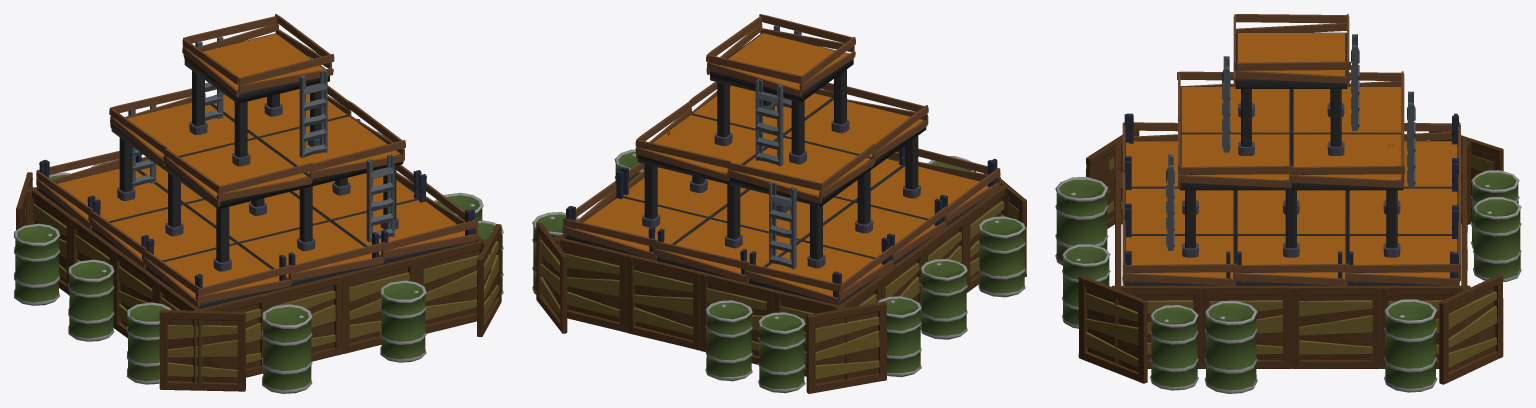
Rendered from SmallBunkerSeperatedParts 1.fbx.
3 views of the same model, side by side, from view 1: azimuth 30°, elevation 25°; view 2: azimuth 150°, elevation 25°; view 3: azimuth 270°, elevation 25° (orthographic). The views are drawn at different scales.
Parts seen in each view (by area): view 1: SmallBunker.015, SmallBunker.308, SmallBunker.013, SmallBunker.014, SmallBunker.011, SmallBunker.310, SmallBunker.304, SmallBunker.301, SmallBunker.009, SmallBunker.005, SmallBunker.010, SmallBunker.006 (+83 smaller); view 2: SmallBunker.015, SmallBunker.013, SmallBunker.012, SmallBunker.305, SmallBunker.298, SmallBunker.300, SmallBunker.304, SmallBunker.014, SmallBunker.008, SmallBunker.009, SmallBunker.004, SmallBunker.007 (+83 smaller); view 3: SmallBunker.015, SmallBunker.006, SmallBunker.294, SmallBunker.295, SmallBunker.007, SmallBunker.012, SmallBunker.011, SmallBunker.014, SmallBunker.013, SmallBunker.005, SmallBunker.292, SmallBunker.300 (+71 smaller).
Part boxes in pixels (<box>): SmallBunker.015: <box>184,33,329,103</box>; SmallBunker.308: <box>262,304,312,393</box>; SmallBunker.013: <box>165,138,310,208</box>; SmallBunker.014: <box>111,102,256,169</box>; SmallBunker.011: <box>258,116,403,186</box>; SmallBunker.310: <box>380,280,426,362</box>; SmallBunker.304: <box>68,259,114,341</box>; SmallBunker.301: <box>14,223,60,305</box>; SmallBunker.009: <box>92,204,236,261</box>; SmallBunker.005: <box>238,221,383,286</box>; SmallBunker.010: <box>38,168,183,222</box>; SmallBunker.006: <box>185,192,329,243</box>; SmallBunker.015: <box>710,32,853,102</box>; SmallBunker.013: <box>783,99,926,167</box>; SmallBunker.012: <box>637,114,776,184</box>; SmallBunker.305: <box>978,216,1025,297</box>; SmallBunker.298: <box>758,312,805,393</box>; SmallBunker.300: <box>705,300,752,381</box>; SmallBunker.304: <box>920,258,967,339</box>; SmallBunker.014: <box>729,137,873,206</box>; SmallBunker.008: <box>855,165,988,226</box>; SmallBunker.009: <box>802,202,936,265</box>; SmallBunker.004: <box>566,197,708,260</box>; SmallBunker.007: <box>657,218,800,283</box>; SmallBunker.015: <box>1235,32,1347,88</box>; SmallBunker.006: <box>1235,190,1347,235</box>; SmallBunker.294: <box>1204,300,1257,393</box>; SmallBunker.295: <box>1384,299,1437,392</box>; SmallBunker.007: <box>1347,188,1458,236</box>; SmallBunker.012: <box>1291,134,1403,190</box>; SmallBunker.011: <box>1179,134,1291,190</box>; SmallBunker.014: <box>1291,87,1401,134</box>; SmallBunker.013: <box>1180,86,1291,134</box>; SmallBunker.005: <box>1125,188,1235,236</box>; SmallBunker.292: <box>1150,305,1198,390</box>; SmallBunker.300: <box>1473,197,1521,281</box>.
Size of the model in its own units: 12.39 by 7.63 by 12.51.
Materials: 10 (1 with a texture image).
